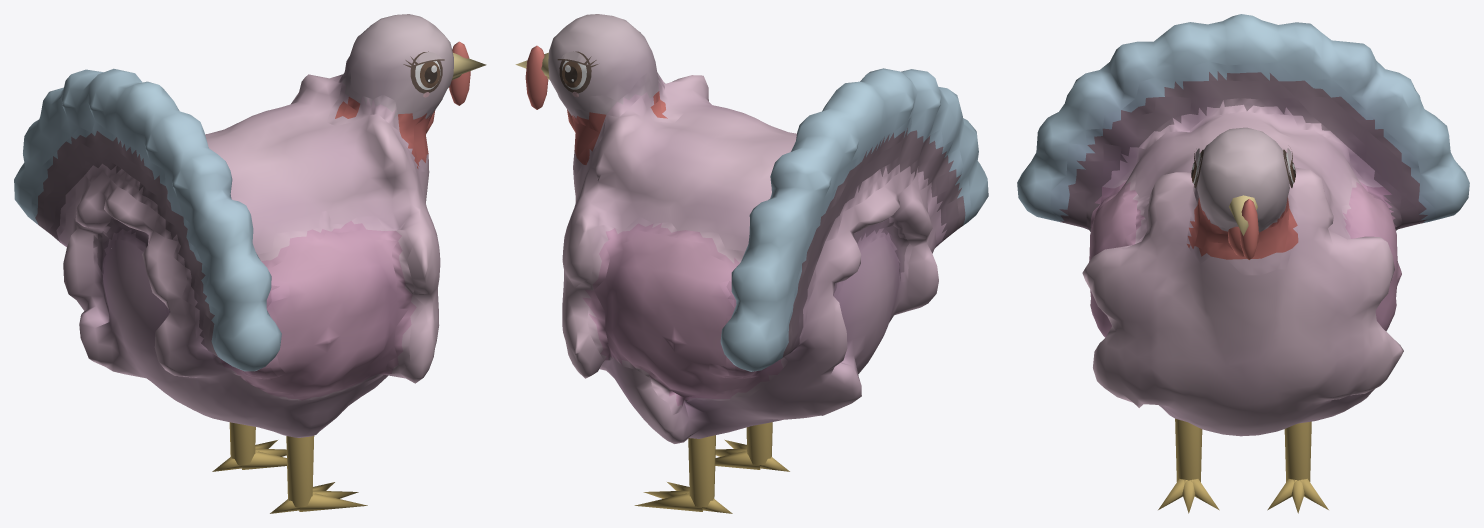
Rendered from bubblegum_turkey.glb.
The picture shows the model from 3 angles, left to right: view 1: azimuth 30°, elevation 25°; view 2: azimuth 150°, elevation 25°; view 3: azimuth 270°, elevation 25°; orthographic projection. The views are drawn at different scales.
Visible parts, largest first — view 1: bubblegum_turkey; view 2: bubblegum_turkey; view 3: bubblegum_turkey.
Boxes of the visible parts, x1,y1,x2,y2 form: bubblegum_turkey: [14, 14, 486, 513]; bubblegum_turkey: [515, 14, 988, 513]; bubblegum_turkey: [1017, 14, 1469, 513].
Bounding box in the file's own units: 0.6986 × 0.7724 × 0.7615.
